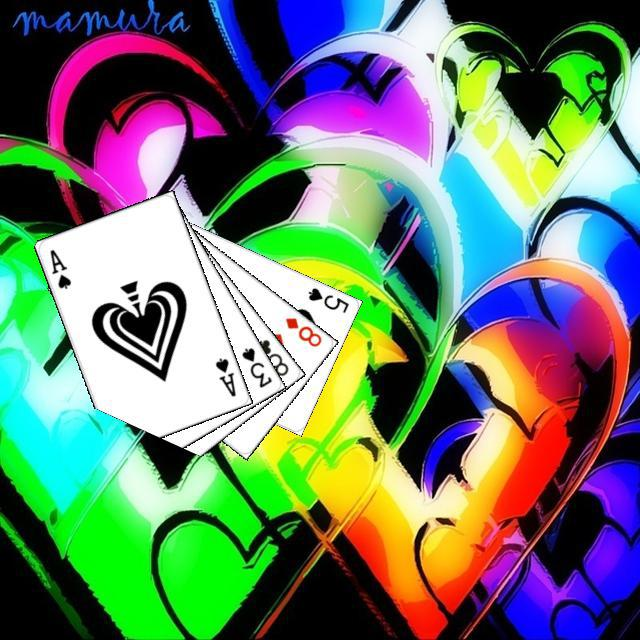3s: (236, 342, 273, 389)
5s: (303, 283, 351, 315)
8c: (251, 334, 290, 378)
8d: (280, 312, 323, 349)
As: (45, 244, 73, 291), (210, 353, 237, 399)
